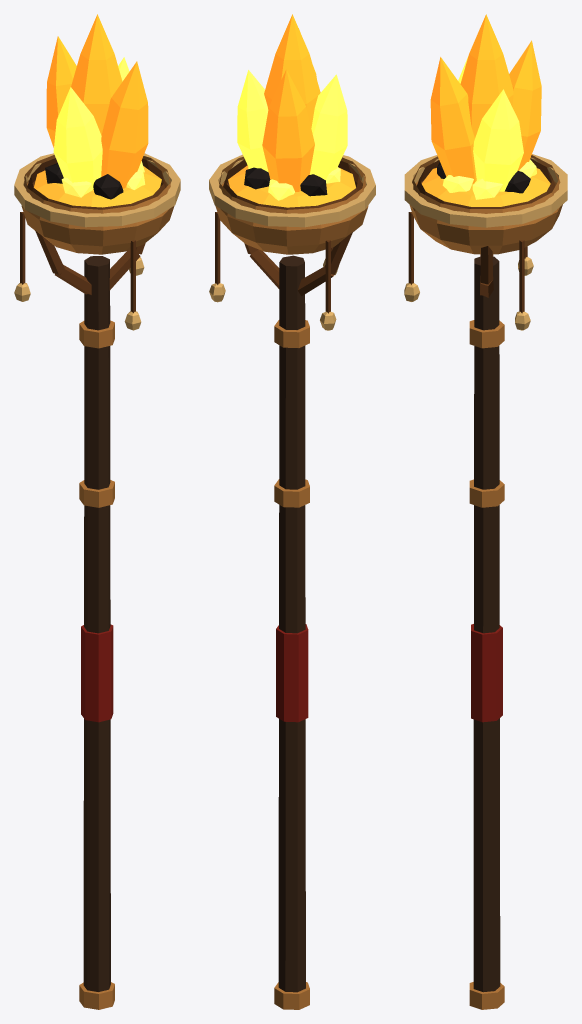
File: brazier_staff.glb
3 views of the same model, side by side, from view 1: azimuth 30°, elevation 25°; view 2: azimuth 150°, elevation 25°; view 3: azimuth 270°, elevation 25° (orthographic).
Visible parts, largest first — view 1: brazier_staff; view 2: brazier_staff; view 3: brazier_staff.
Boxes of the visible parts, x1=… form: brazier_staff: x1=14, y1=14, x2=180, y2=1009; brazier_staff: x1=209, y1=14, x2=375, y2=1009; brazier_staff: x1=404, y1=14, x2=567, y2=1009.
Size of the model in its own units: 0.38 by 2.48 by 0.3714.
